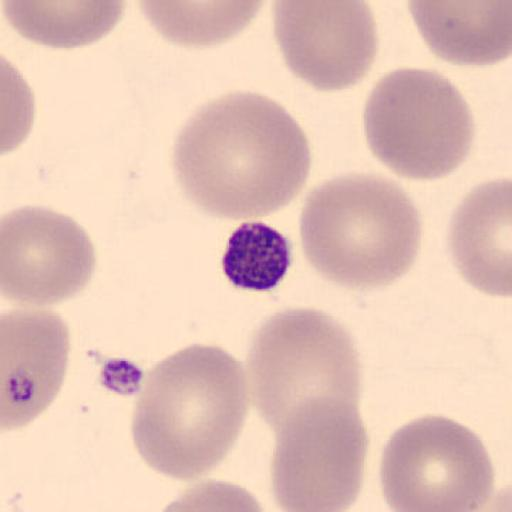Platelet: (218, 219, 295, 294), (93, 350, 149, 398)
RBC: (168, 89, 313, 221), (130, 341, 250, 481), (244, 304, 365, 438), (296, 168, 424, 292), (361, 66, 477, 182), (269, 392, 370, 512), (378, 412, 496, 512), (2, 202, 98, 308), (271, 0, 379, 93), (2, 306, 71, 432), (445, 176, 512, 299), (405, 0, 512, 69), (132, 0, 269, 49), (4, 0, 127, 51), (151, 476, 268, 512), (2, 54, 36, 156)
